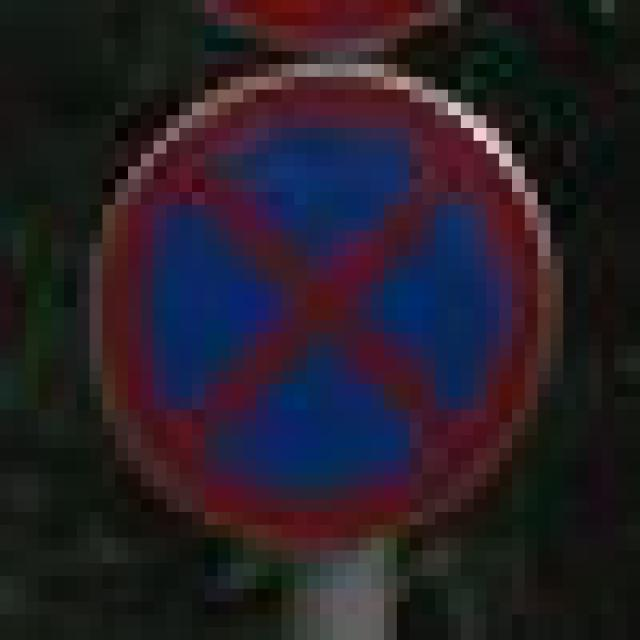no_parking: (77, 51, 550, 525)
